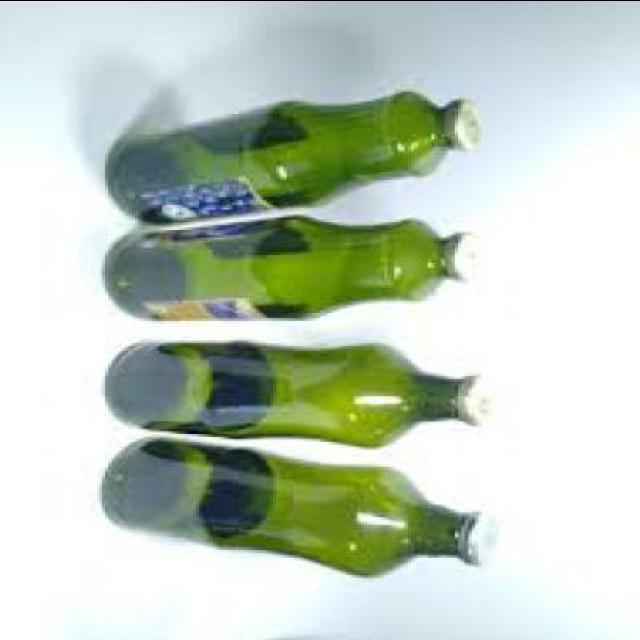kaca: (105, 433, 472, 577), (111, 88, 449, 220), (111, 338, 469, 446), (108, 212, 454, 316)
